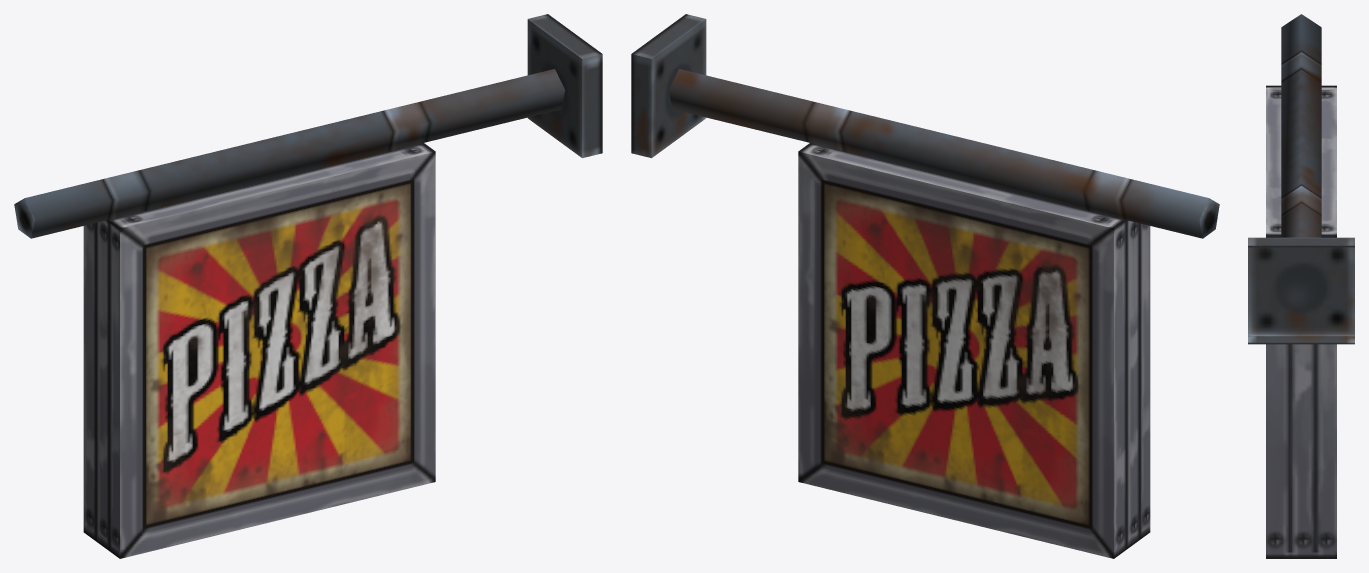
File: signage02.fbx
The picture shows the model from 3 angles, left to right: view 1: azimuth 30°, elevation 25°; view 2: azimuth 150°, elevation 25°; view 3: azimuth 270°, elevation 25°; orthographic projection. The views are drawn at different scales.
Parts seen in each view (by area): view 1: signage02; view 2: signage02; view 3: signage02.
Boxes of the visible parts, <box> form: signage02: <box>14,14,602,558</box>; signage02: <box>631,14,1219,558</box>; signage02: <box>1248,14,1354,558</box>.
Size of the model in its own units: 174 by 120 by 30.02.
